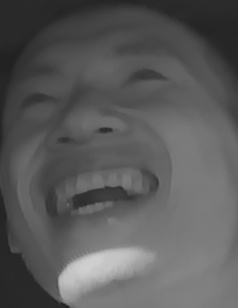eye: (117, 62, 175, 91), (13, 84, 58, 113)
mouth: (32, 151, 166, 232)
